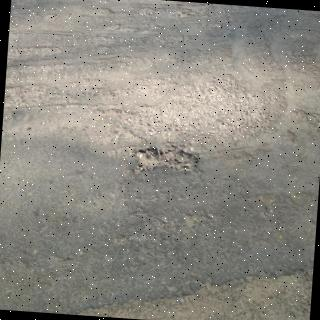pothole: (128, 145, 198, 174)
